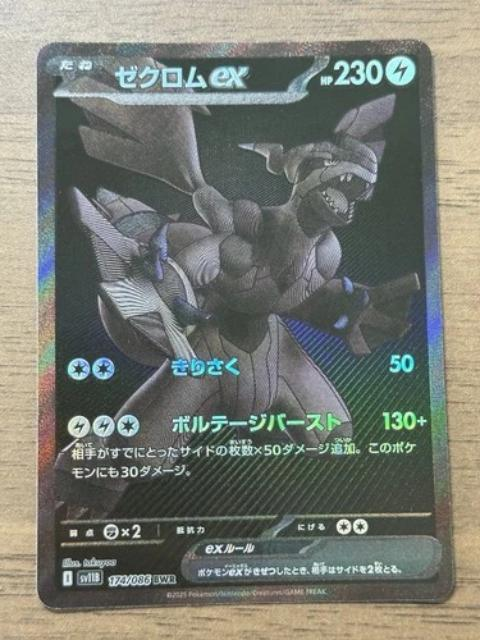Card: (32, 35, 460, 618)
Name: (107, 59, 263, 95)
